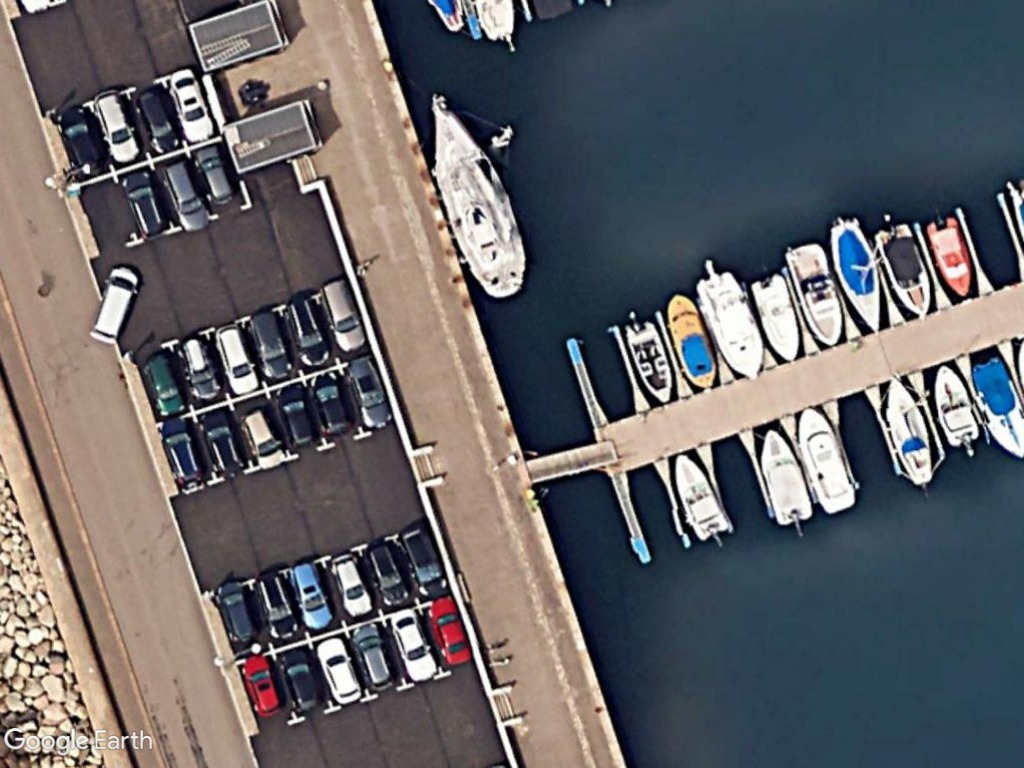boat: (424, 89, 534, 302), (690, 269, 765, 382), (827, 212, 889, 335), (880, 370, 942, 492), (797, 401, 860, 518), (783, 237, 849, 348), (870, 220, 938, 321), (757, 425, 819, 529), (671, 448, 733, 547), (661, 287, 718, 393), (745, 267, 803, 369), (970, 357, 1024, 463), (625, 310, 679, 407), (930, 357, 983, 450), (924, 212, 975, 303)
car: (385, 604, 440, 686), (155, 411, 211, 490), (399, 522, 453, 603), (158, 156, 213, 233), (90, 85, 142, 166), (165, 67, 218, 146), (283, 292, 335, 370), (346, 353, 398, 431), (54, 104, 108, 179), (246, 305, 296, 384), (424, 590, 474, 669), (196, 403, 247, 480), (286, 560, 337, 636), (363, 538, 416, 611), (347, 616, 397, 693), (276, 643, 327, 718), (213, 319, 262, 397), (132, 86, 187, 155), (320, 277, 368, 356), (255, 566, 303, 645), (314, 633, 364, 708), (213, 576, 263, 650), (306, 361, 353, 438), (326, 548, 376, 620), (179, 330, 226, 406), (119, 169, 167, 241), (239, 404, 288, 472), (192, 137, 238, 209), (142, 349, 189, 419), (274, 377, 320, 448), (241, 653, 286, 721)
van: (88, 261, 141, 349)
